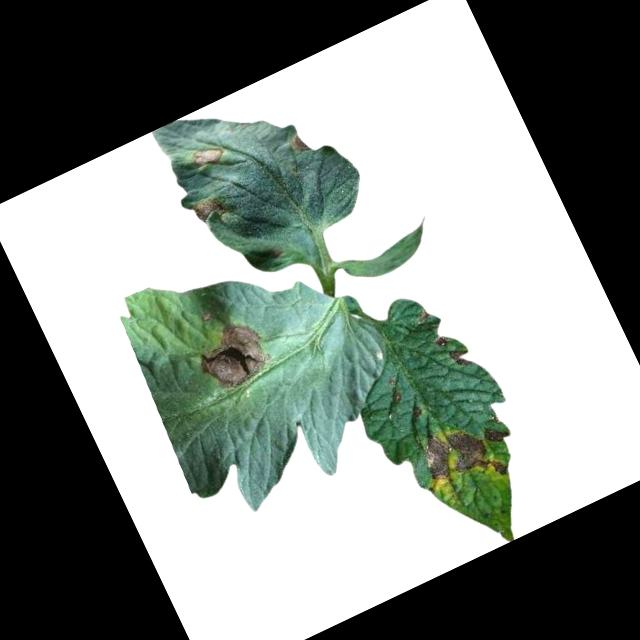Early_blight: (415, 412, 509, 503), (188, 315, 277, 399), (188, 134, 234, 171), (189, 191, 223, 223), (479, 413, 511, 446), (446, 342, 476, 371), (288, 130, 311, 154), (433, 333, 450, 349), (389, 389, 404, 404), (412, 404, 425, 417)
